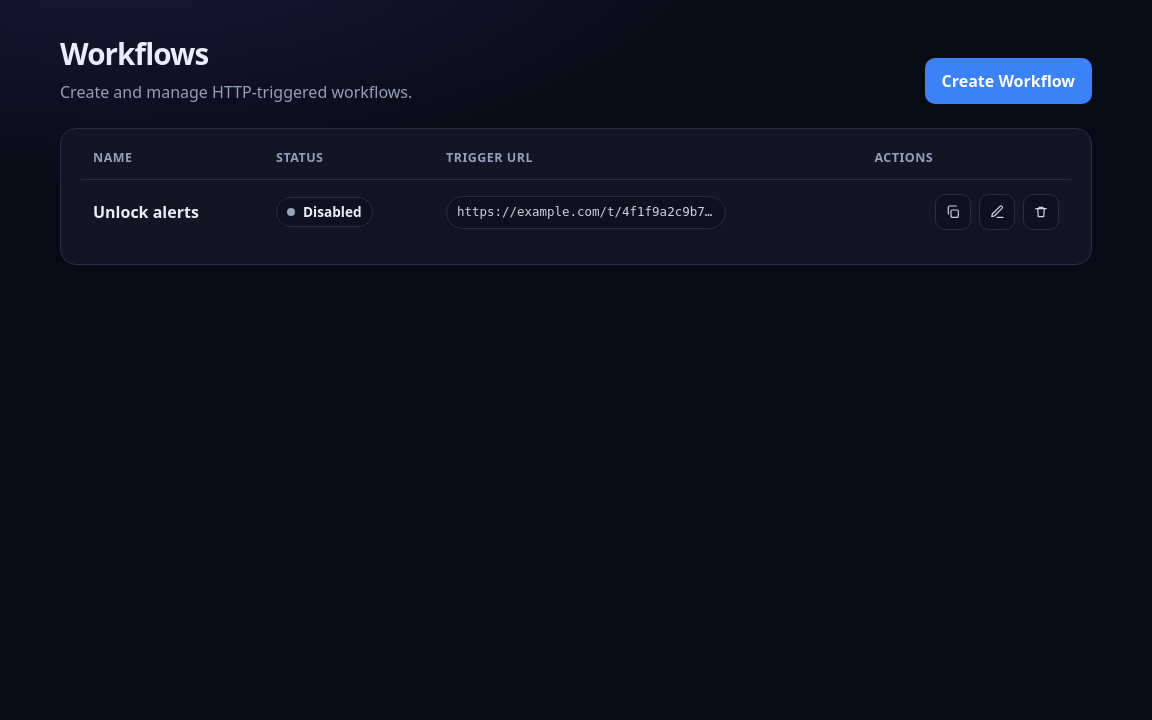
Scenario: WorkflowList › enables a workflow
Click the button with aria-label "Enable Unlock alerts". click: (324, 212)
box: top-left (276, 197), bottom-right (373, 227)
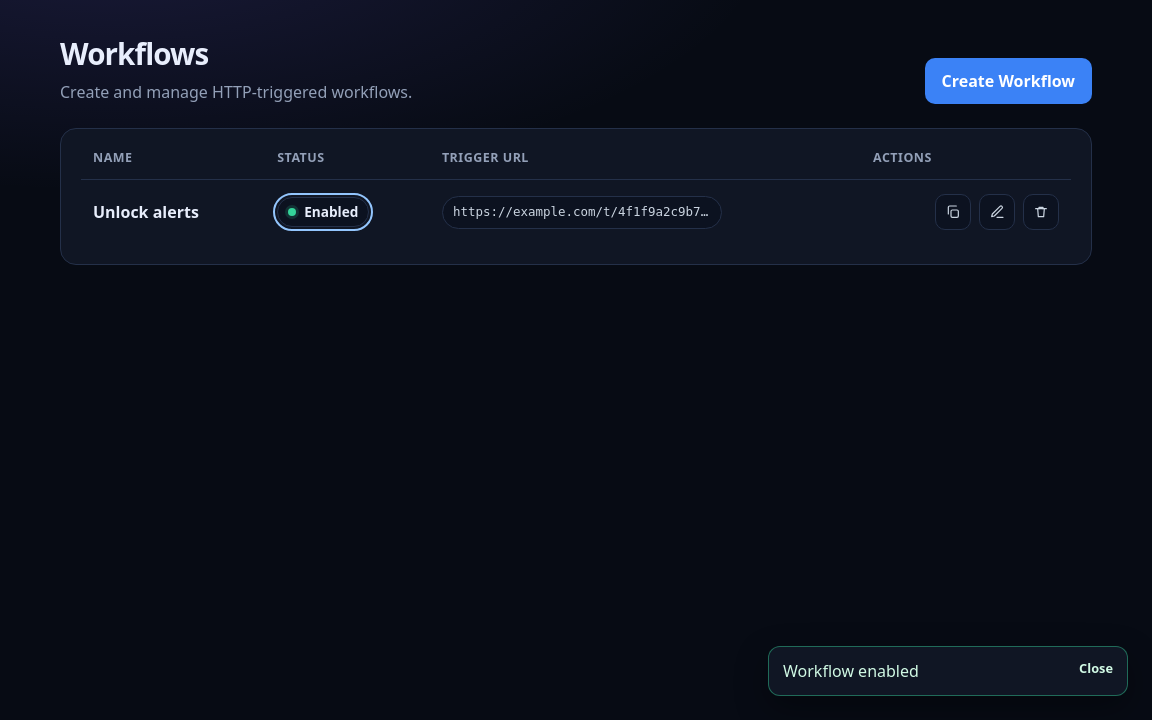
Check: the text "Workflow enabled" is shown, box top-left (783, 659), bottom-right (919, 683)
